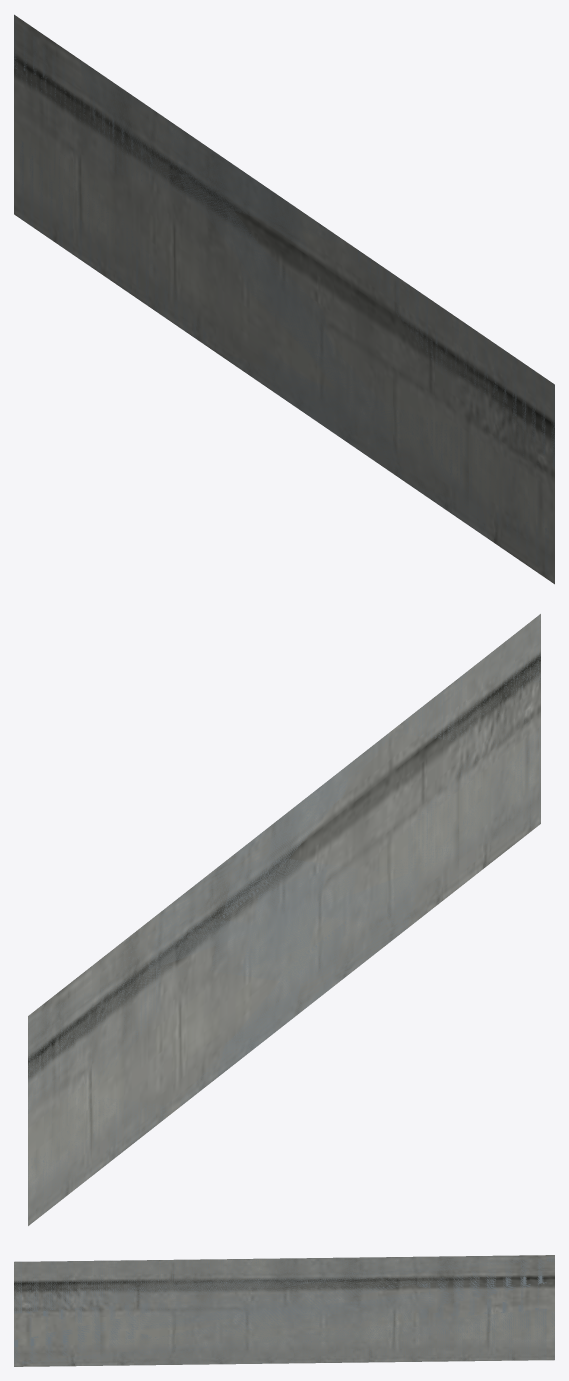
The model's file is 人民英雄纪念碑75.dae.
The picture shows the model from 3 angles, top to bottom: view 1: azimuth 30°, elevation 25°; view 2: azimuth 150°, elevation 25°; view 3: azimuth 270°, elevation 25°; orthographic projection. The views are drawn at different scales.
Parts seen in each view (by area): view 1: SketchUp; view 2: SketchUp; view 3: SketchUp.
Boxes of the visible parts, x1=… form: SketchUp: x1=14, y1=14, x2=554, y2=584; SketchUp: x1=28, y1=614, x2=540, y2=1225; SketchUp: x1=14, y1=1255, x2=554, y2=1366.
Bounding box in the file's own units: 9.81 × 331 × 70.87.
